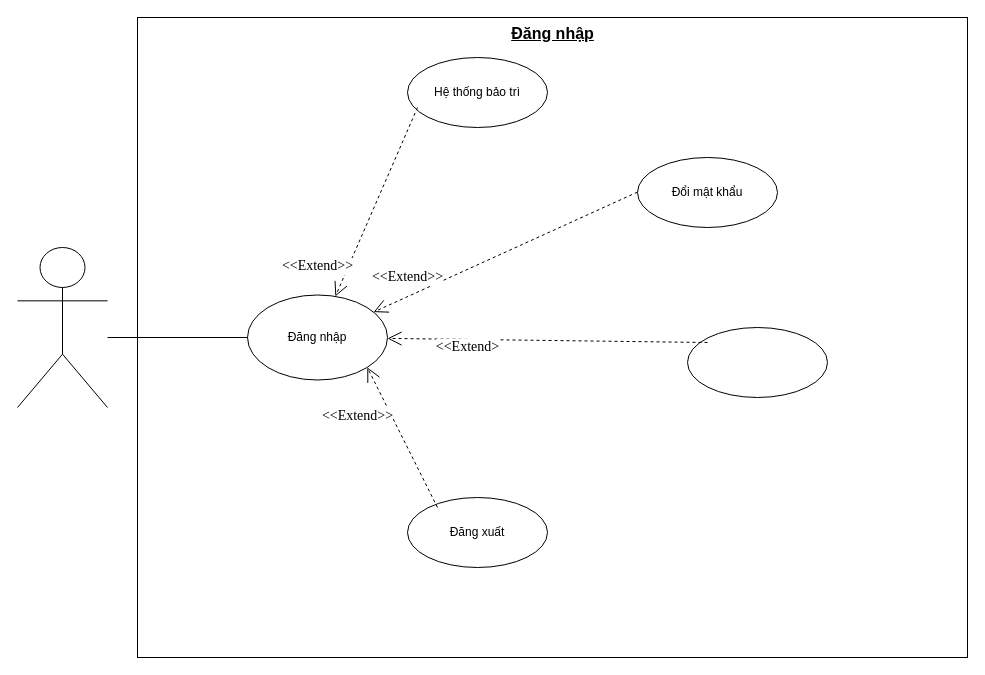
Image size: 985x675. Some labels were removed from this diagram. Here are the shapes that lost their labels. From the top down, the centre of each, then its label:
At point (62, 327): "Giáo vụ".
At point (757, 362): "Nhập sai tài khoản hoặc mật khẩu".
